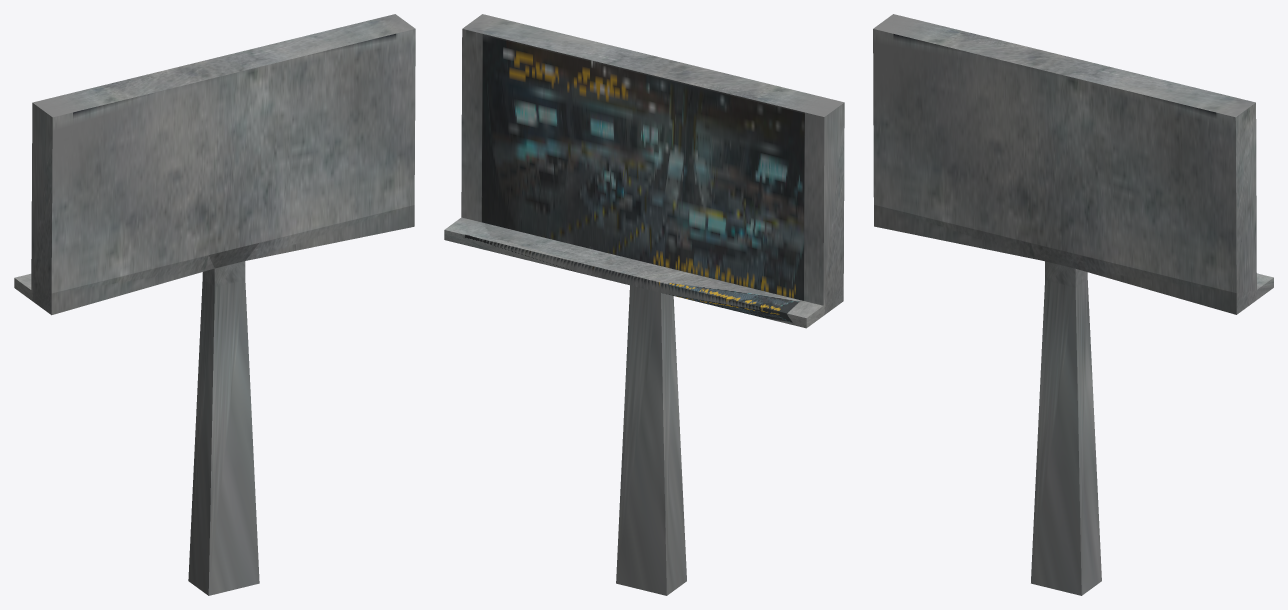
The model's file is AdSignBig.fbx.
The picture shows the model from 3 angles, left to right: view 1: azimuth 30°, elevation 25°; view 2: azimuth 150°, elevation 25°; view 3: azimuth 330°, elevation 25°; orthographic projection.
Parts seen in each view (by area): view 1: AdBigSign; view 2: AdBigSign; view 3: AdBigSign.
Boxes of the visible parts, box(x1,y1,x2,y2) form: AdBigSign: box(14, 14, 415, 595); AdBigSign: box(444, 14, 844, 595); AdBigSign: box(873, 14, 1273, 595).
Size of the model in its own units: 24.24 by 33 by 4.43.
1 material, 1 textured.
